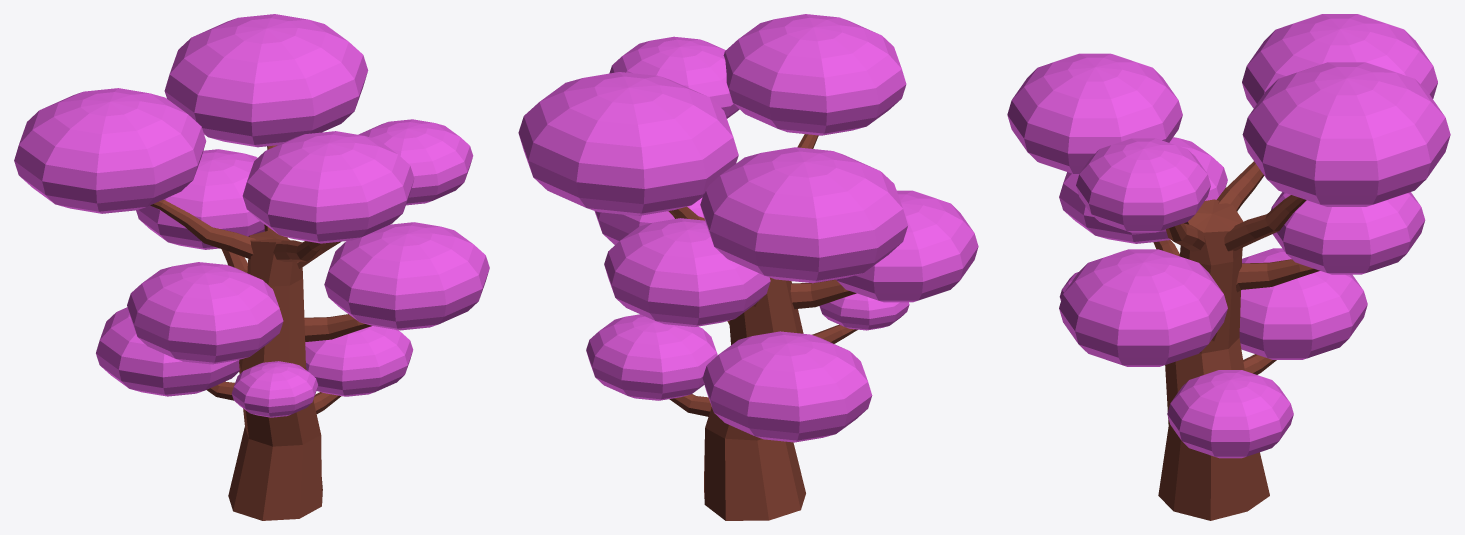
Rendered from obj_tree_blossom_low.fbx.
3 renders of one model, left to right at view 1: azimuth 30°, elevation 25°; view 2: azimuth 150°, elevation 25°; view 3: azimuth 270°, elevation 25°, orthographic. The views are drawn at different scales.
Parts seen in each view (by area): view 1: msh_tree; view 2: msh_tree; view 3: msh_tree.
Part boxes in pixels (bbox=[...]): msh_tree: bbox=[14, 14, 489, 520]; msh_tree: bbox=[518, 14, 978, 520]; msh_tree: bbox=[1007, 14, 1450, 520].
Size of the model in its own units: 46.19 by 50.87 by 45.83.
